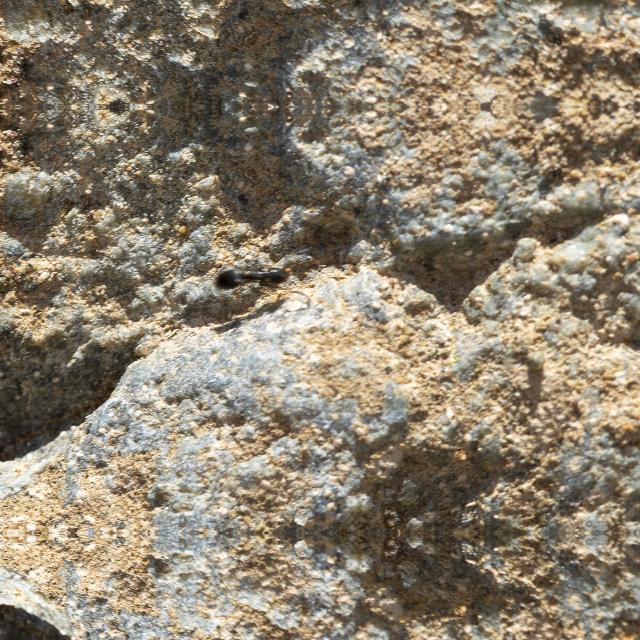Tapinoma: (205, 244, 308, 296)
